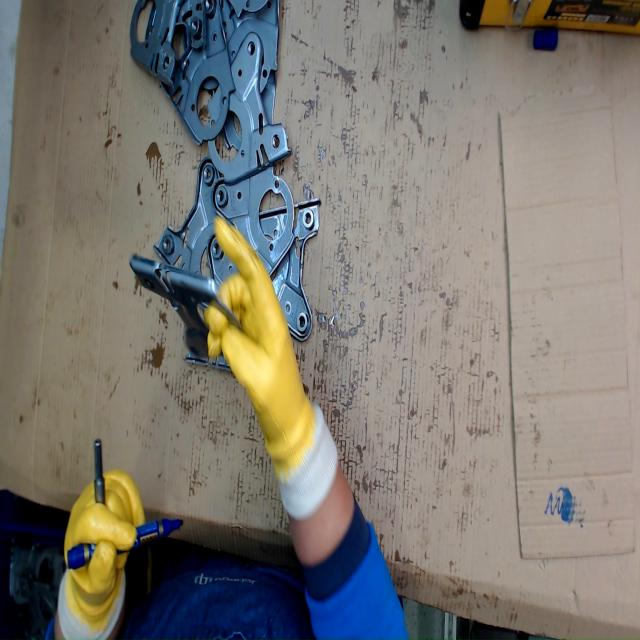hands: (198, 214, 326, 465), (58, 466, 148, 640)
